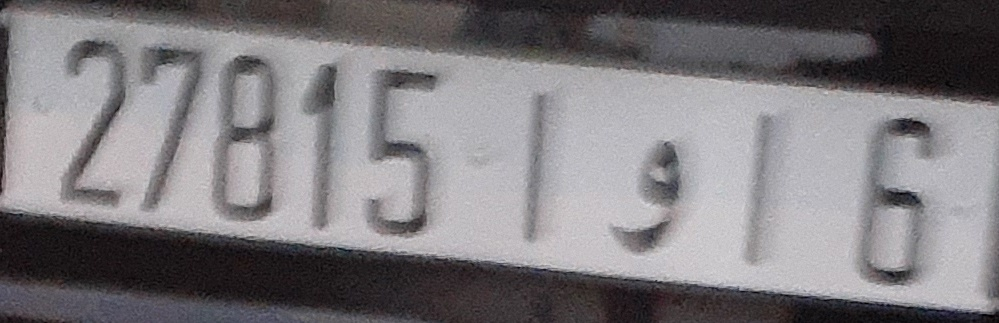1: (296, 56, 346, 232)
2: (57, 34, 132, 210)
5: (359, 63, 439, 239)
6: (848, 111, 938, 293)
7: (134, 43, 207, 215)
8: (213, 50, 280, 226)
waw: (602, 127, 688, 262)
